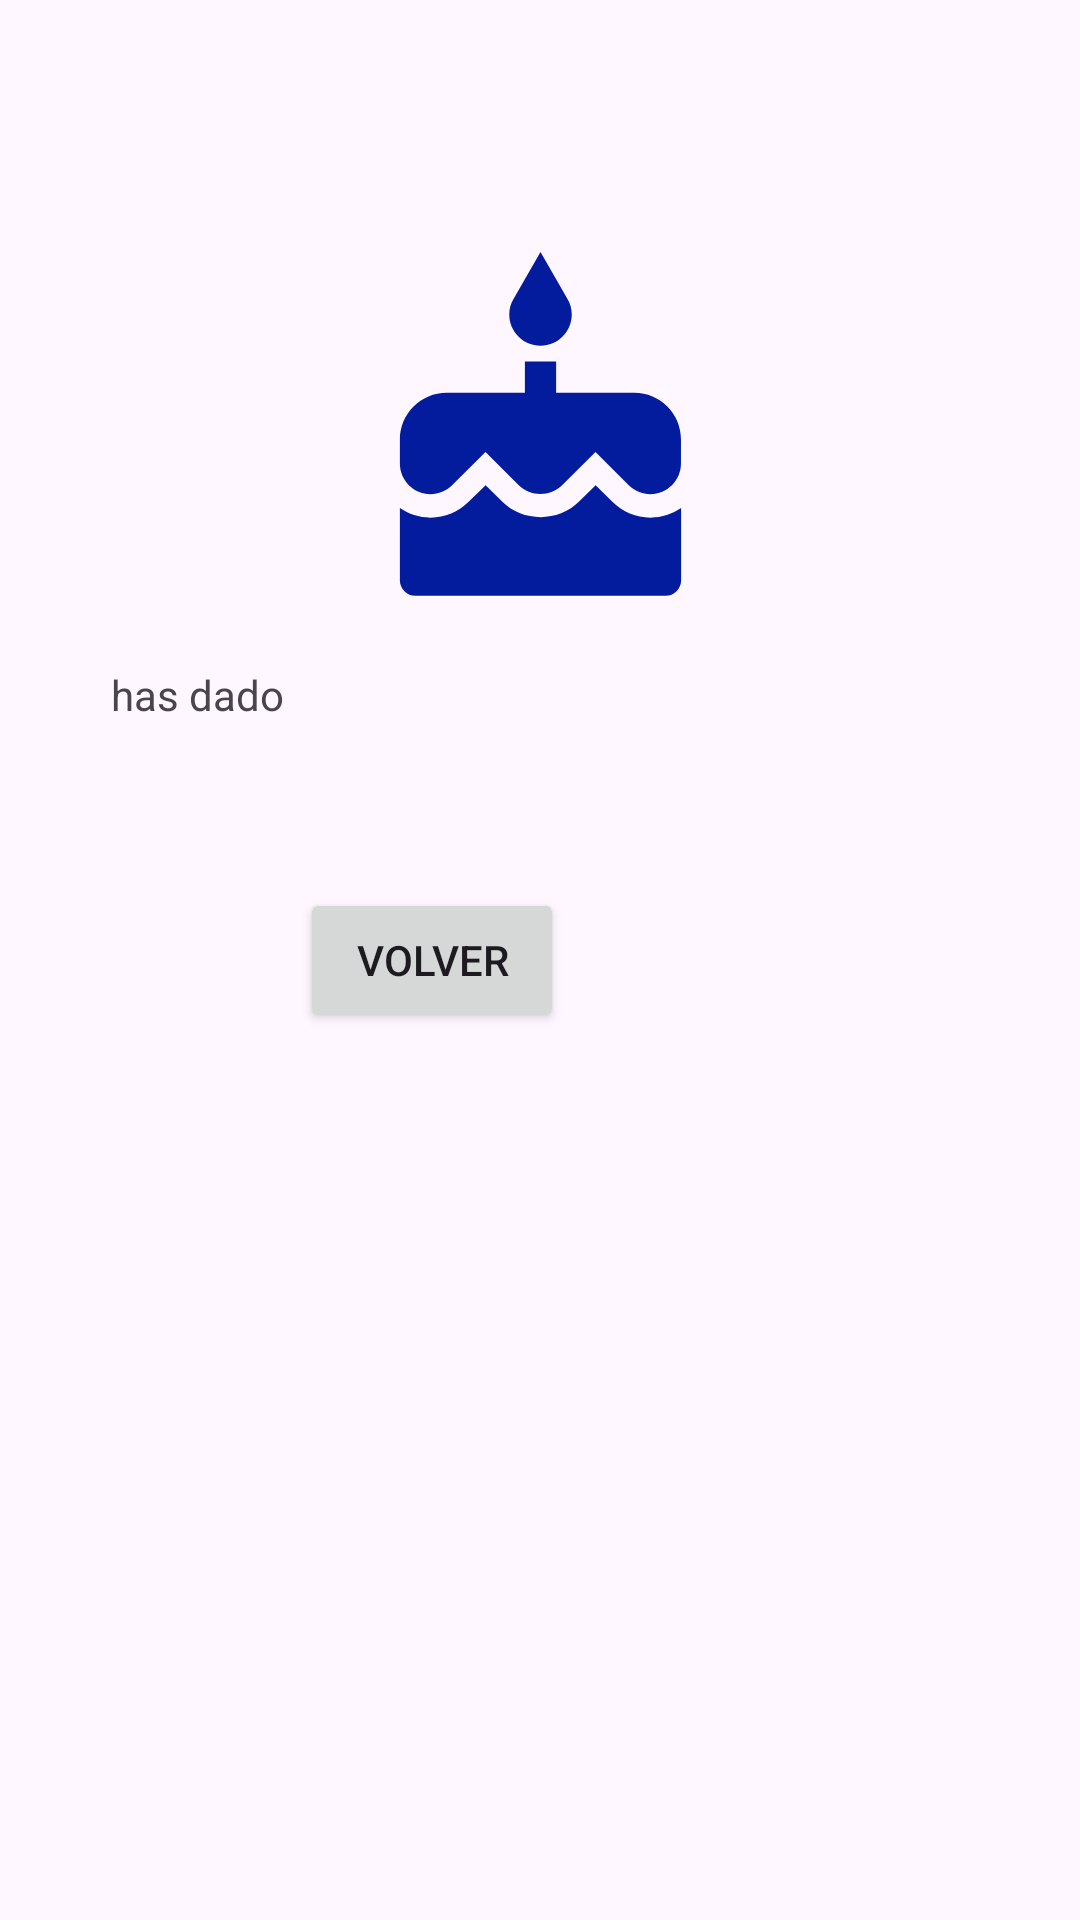

Screen size 1080 x 1920. Icon name, then its box in pixels as (x1, y1, x2, y2):
cake: (399, 252, 682, 596)
